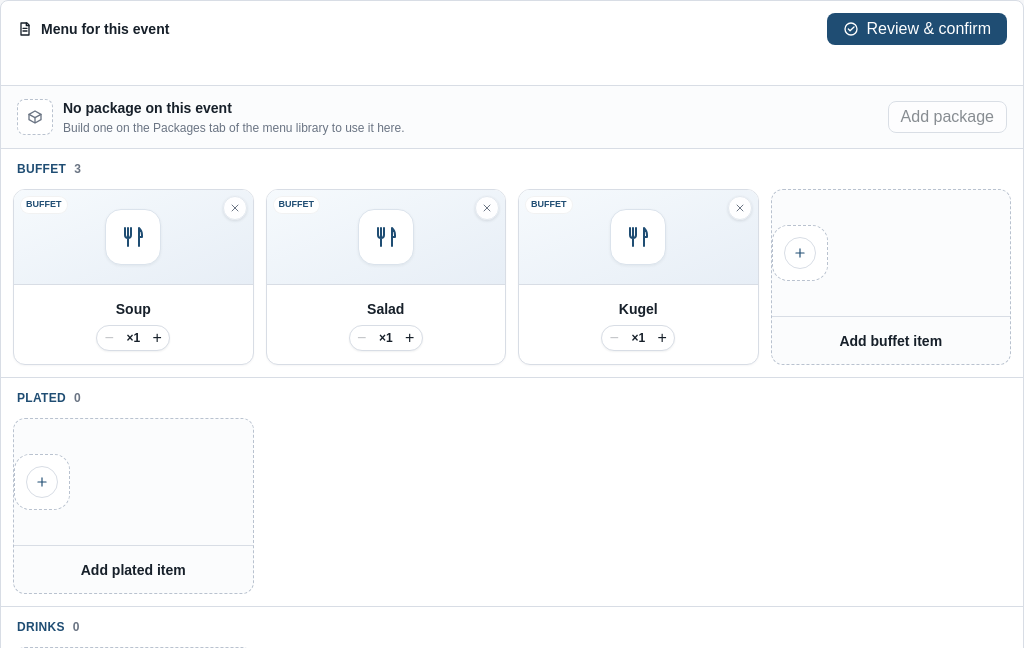
Test: event menu edits made faster than the server answers › does not let a refresh that started first put a removed dish back
The width and height of the screenshot is (1024, 648).
Click the button named "Remove Soup".
click(234, 208)  # box [222,196,246,220]
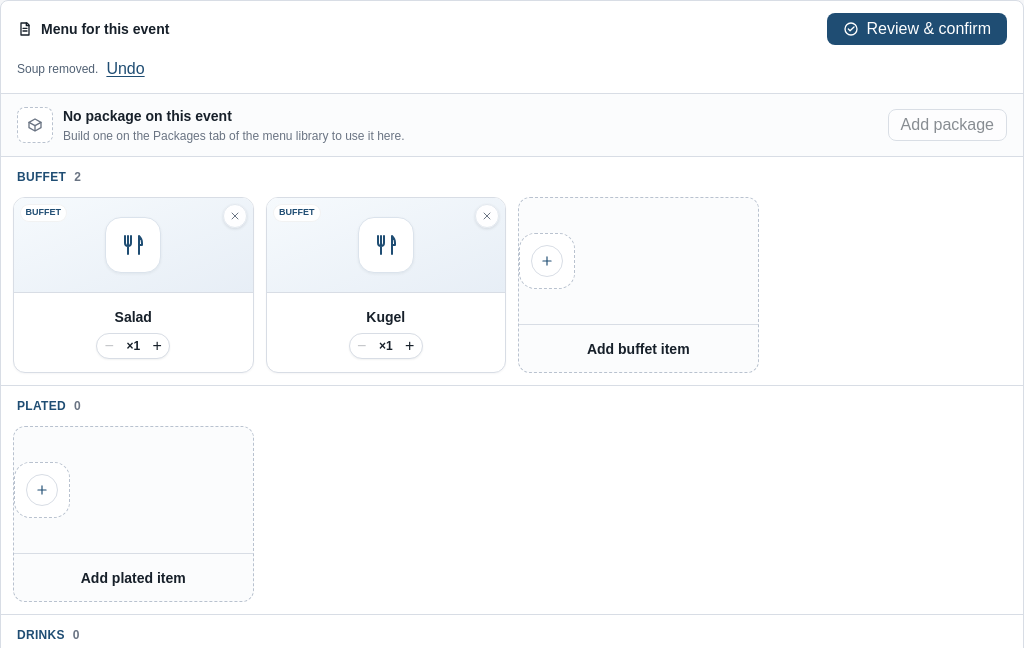
Now the button "Remove Soup" is gone
